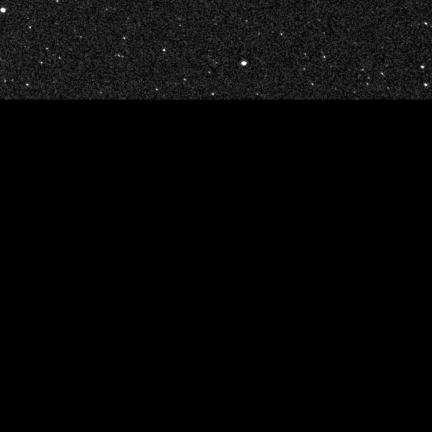blob: (241, 61, 247, 66), (0, 8, 5, 13), (421, 65, 425, 70), (424, 83, 428, 86)
